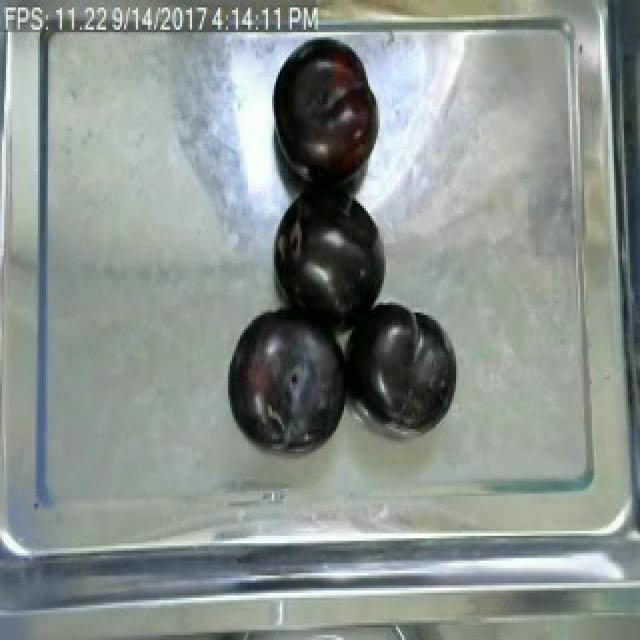Fruit: (218, 298, 350, 452), (272, 166, 388, 338), (266, 37, 386, 194), (340, 295, 460, 432)
